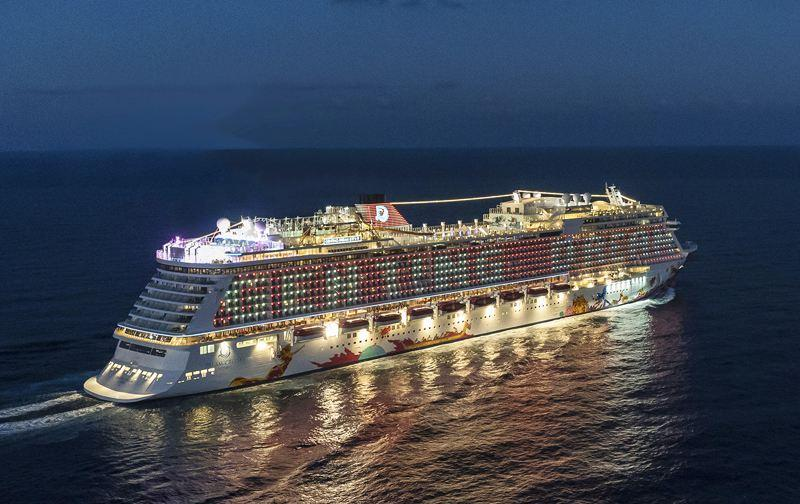youlun: (83, 177, 691, 404)
